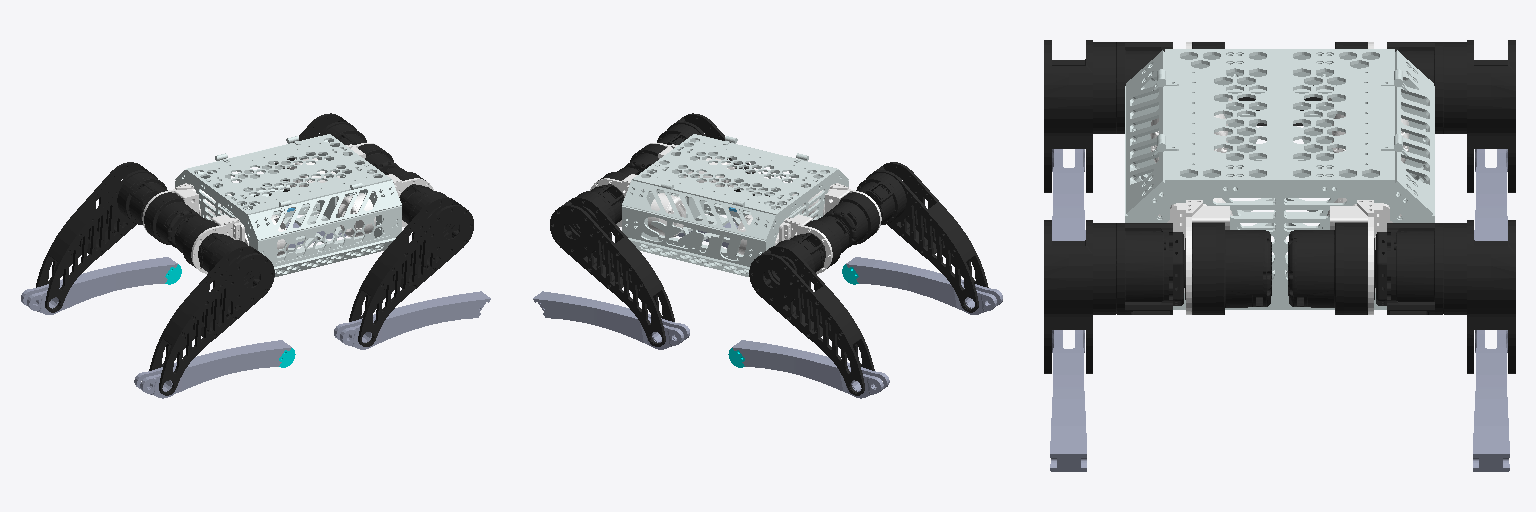
--- Render facts (derived) ---
Views: 3 orthographic renders of the robot side by side, from view 1: azimuth 30°, elevation 25°; view 2: azimuth 150°, elevation 25°; view 3: azimuth 270°, elevation 25°.
Robot: robot — 18 links, 17 joints (12 revolute, 5 fixed); root link base_link; default pose: all joints at 0.
Links seen in each view (by area): view 1: base_link, leg3_link2, leg4_link2, leg1_link2, leg1_link3, leg3_link3, leg4_link3, leg2_link2, leg3_link1, leg1_link1, leg4_link1; view 2: base_link, leg4_link2, leg3_link2, leg2_link2, leg2_link3, leg4_link3, leg3_link3, leg1_link2, leg4_link1, leg2_link1, leg3_link1; view 3: base_link, leg2_link2, leg1_link2, leg3_link2, leg4_link2, leg1_link3, leg2_link3, leg3_link3, leg4_link3, leg1_link1, leg2_link1.
Link boxes in pixels (x1,y1,x2,y2): base_link: [175, 134, 401, 277]; leg3_link2: [149, 216, 274, 395]; leg4_link2: [36, 162, 200, 312]; leg1_link2: [349, 167, 473, 346]; leg1_link3: [334, 291, 490, 349]; leg3_link3: [134, 340, 291, 398]; leg4_link3: [21, 257, 177, 314]; leg2_link2: [254, 113, 399, 196]; leg3_link1: [191, 214, 288, 273]; leg1_link1: [338, 174, 433, 236]; leg4_link1: [142, 183, 231, 233]; base_link: [622, 134, 848, 276]; leg4_link2: [749, 216, 874, 395]; leg3_link2: [823, 162, 988, 312]; leg2_link2: [550, 167, 674, 346]; leg2_link3: [533, 291, 689, 349]; leg4_link3: [732, 340, 889, 398]; leg3_link3: [846, 257, 1002, 314]; leg1_link2: [624, 113, 769, 196]; leg4_link1: [737, 214, 832, 273]; leg2_link1: [590, 174, 685, 237]; leg3_link1: [792, 183, 881, 232]; base_link: [1125, 49, 1434, 309]; leg2_link2: [1288, 220, 1515, 373]; leg1_link2: [1044, 220, 1271, 373]; leg3_link2: [1044, 40, 1266, 192]; leg4_link2: [1293, 40, 1515, 192]; leg1_link3: [1050, 330, 1086, 471]; leg2_link3: [1473, 330, 1509, 471]; leg3_link3: [1052, 149, 1085, 240]; leg4_link3: [1474, 149, 1507, 240]; leg1_link1: [1158, 198, 1232, 314]; leg2_link1: [1327, 198, 1401, 314].
Bounding box of the posed robot: 0.6176 × 0.3896 × 0.237 m (x, y, z).
15 mesh visuals loaded from 17 distinct referenced files (15 binary STL); not drawn: 2 (reference not matched to a file when rendering).

robot.urdf — robot:
<?xml version="1.0" ?>
<!-- =================================================================================== -->
<!-- |    This document was autogenerated by xacro from ./Combination.xacro            | -->
<!-- |    EDITING THIS FILE BY HAND IS NOT RECOMMENDED                                 | -->
<!-- =================================================================================== -->
<robot name="robot">
  <mujoco>
    <compiler meshdir="../meshes/" balanceinertia="true" discardvisual="false"/>
  </mujoco>
  <!-- 定义颜色材料 -->
  <!--金属-->
  <material name="body_material">
    <color rgba="0.9 0.95 0.95 1"/>
  </material>
  <!--白色-->
  <material name="link_1_material">
    <color rgba="1.0 1.0 1.0 1.0"/>
  </material>
  <!--深灰哑光-->
  <material name="link_2_material">
    <color rgba="0.2 0.2 0.2 1"/>
  </material>
  <!--灰色-->
  <material name="link_3_material">
    <color rgba="0.671705 0.692426 0.774270 1"/>
  </material>
  <!--半透明青色-->
  <material name="link_4_material">
    <color rgba="0.0 1.0 1.0 0.75"/>
  </material>
  <!--身体部分body-->
  <link name="base_link">
    <!--惯性矩阵-->
    <inertial>
      <origin rpy="0 0 0" xyz="0.00015 0.00075 -0.004"/>
      <mass value="5.0"/>
      <inertia ixx="0.04181" ixy="-1e-05" ixz="5e-05" iyy="0.0558" iyz="2e-05" izz="0.0793"/>
    </inertial>
    <!--可视化-->
    <visual>
      <origin rpy="0 0 0" xyz="0 0 0"/>
      <geometry>
        <mesh filename="package://robot_description/robot/meshes/base_link.STL"/>
      </geometry>
      <material name="body_material"/>
    </visual>
    <!--碰撞-->
    <collision>
      <origin rpy="0 0 0" xyz="0 0 0"/>
      <geometry>
        <box size="0.256 0.256 0.118"/>
      </geometry>
    </collision>
  </link>
  <!--joint1-->
  <joint name="leg1_joint1" type="revolute">
    <!--两个坐标系（link）的相对偏移-->
    <origin rpy="-0.0 0 0" xyz="0.177 -0.0755 0.0"/>
    <parent link="base_link"/>
    <child link="leg1_link1"/>
    <axis xyz="1 0 0"/>
    <dynamics damping="0.01" friction="0.2"/>
    <limit effort="36.0" lower="-3.14" upper="3.14" velocity="17.3"/>
  </joint>
  <!--link1-->
  <link name="leg1_link1">
    <!--质心偏移-->
    <inertial>
      <origin rpy="0 0 0" xyz="-0.00461 0.02471 0.00019"/>
      <mass value="0.68678"/>
      <inertia ixx="0.00051" ixy="5e-05" ixz="0.0" iyy="0.0005" iyz="-0.0" izz="0.00057"/>
    </inertial>
    <visual>
      <origin rpy="0 0 0" xyz="0 0 0"/>
      <geometry>
        <mesh filename="package://robot_description/robot/meshes/leg1_link1.STL"/>
      </geometry>
      <material name="link_1_material"/>
    </visual>
    <collision>
      <origin rpy="1.57 0 0" xyz="0 0.033 0"/>
      <geometry>
        <cylinder length="0.06" radius="0.038"/>
      </geometry>
    </collision>
  </link>
  <!--joint2-->
  <joint name="leg1_joint2" type="revolute">
    <!--两个坐标系（link）的相对偏移-->
    <origin rpy="0 0.785 0" xyz="0.0 -0.0993 0.0"/>
    <parent link="leg1_link1"/>
    <child link="leg1_link2"/>
    <axis xyz="0 1 0"/>
    <dynamics damping="0.01" friction="0.2"/>
    <limit effort="36.0" lower="-3.14" upper="3.14" velocity="17.3"/>
  </joint>
  <!--link2-->
  <link name="leg1_link2">
    <!--质心偏移-->
    <inertial>
      <origin rpy="0 0 0" xyz="-0.00238 0.02441 -0.04244"/>
      <mass value="1.22859"/>
      <inertia ixx="0.00754" ixy="8e-05" ixz="0.00033" iyy="0.00682" iyz="0.00128" izz="0.00167"/>
    </inertial>
    <visual>
      <origin rpy="0 0 0" xyz="0 0 0"/>
      <geometry>
        <mesh filename="package://robot_description/robot/meshes/leg1_link2.STL"/>
      </geometry>
      <material name="link_2_material"/>
    </visual>
    <!--圆柱和盒子组合-->
    <collision>
      <origin rpy="1.57 0 0" xyz="0 0.036 0"/>
      <geometry>
        <cylinder length="0.117" radius="0.038"/>
      </geometry>
    </collision>
    <collision>
      <origin rpy="0 1.57 0" xyz="0 0 -0.125"/>
      <geometry>
        <box size="0.165 0.04 0.06"/>
      </geometry>
    </collision>
  </link>
  <!--joint3-->
  <joint name="leg1_joint3" type="revolute">
    <!--两个坐标系（link）的相对偏移-->
    <origin rpy="0 -2.355 0" xyz="0.0 -0.0 -0.21"/>
    <parent link="leg1_link2"/>
    <child link="leg1_link3"/>
    <axis xyz="0 1 0"/>
    <dynamics damping="0.01" friction="0.2"/>
    <limit effort="36.0" lower="-3.14" upper="3.14" velocity="17.3"/>
  </joint>
  <!--link3-->
  <link name="leg1_link3">
    <!--质心偏移-->
    <inertial>
      <origin rpy="0 0 0" xyz="0.00418 -0.0 -0.09392"/>
      <mass value="0.20045"/>
      <inertia ixx="0.00094" ixy="-0.0" ixz="-3e-05" iyy="0.00094" iyz="-0.0" izz="3e-05"/>
    </inertial>
    <visual>
      <origin rpy="0 0 0" xyz="0 0 0"/>
      <geometry>
        <mesh filename="package://robot_description/robot/meshes/leg1_link3.STL"/>
      </geometry>
      <material name="link_3_material"/>
    </visual>
    <collision>
      <origin rpy="0 0 0" xyz="0 0 -0.105"/>
      <geometry>
        <cylinder length="0.21" radius="0.019"/>
      </geometry>
    </collision>
  </link>
  <!--joint4-->
  <joint name="leg1_joint4" type="fixed">
    <!--两个坐标系（link）的相对偏移-->
    <origin rpy="0 0 0" xyz="0.0 -0.0 -0.21"/>
    <parent link="leg1_link3"/>
    <child link="leg1_link4"/>
    <axis xyz="0 0 0"/>
    <!-- <dynamics damping="0 friction="0"/>
        <limit effort="0" velocity="0" lower="0" upper="0" /> -->
  </joint>
  <!--link4-->
  <link name="leg1_link4">
    <!--质心偏移-->
    <inertial>
      <origin rpy="0 0 0" xyz="-0.00432 -0.0 -0.00515"/>
      <mass value="0.01658"/>
      <inertia ixx="1e-05" ixy="-0.0" ixz="0.0" iyy="1e-05" iyz="-0.0" izz="1e-05"/>
    </inertial>
    <visual>
      <origin rpy="0 0 0" xyz="0 0 0"/>
      <geometry>
        <mesh filename="package://robot_description/robot/meshes/leg1_link4.STL"/>
      </geometry>
      <material name="link_4_material"/>
    </visual>
    <collision>
      <origin rpy="0 0 0" xyz="0 0 0"/>
      <geometry>
        <sphere radius="0.018"/>
      </geometry>
    </collision>
  </link>
  <!-- 指定执行机构 -->
  <!--motor1-->
  <transmission name="leg1_joint1_tran">
    <!--指定传动类型-->
    <type>transmission_interface/SimpleTransmission</type>
    <!--传动系统所连接的关节-->
    <joint name="leg1_joint1">
      <!--硬件接口-->
      <hardwareInterface>hardware_interface/EffortJointInterface</hardwareInterface>
    </joint>
    <!--执行器名称-->
    <actuator name="leg1_joint1_motor">
      <hardwareInterface>hardware_interface/EffortJointInterface</hardwareInterface>
      <!--减速比-->
      <mechanicalReduction>1</mechanicalReduction>
    </actuator>
  </transmission>
  <!--motor2-->
  <transmission name="leg1_joint2_tran">
    <type>transmission_interface/SimpleTransmission</type>
    <joint name="leg1_joint2">
      <hardwareInterface>hardware_interface/EffortJointInterface</hardwareInterface>
    </joint>
    <actuator name="leg1_joint2_motor">
      <hardwareInterface>hardware_interface/EffortJointInterface</hardwareInterface>
      <mechanicalReduction>1</mechanicalReduction>
    </actuator>
  </transmission>
  <!--motor3-->
  <transmission name="leg1_joint3_tran">
    <type>transmission_interface/SimpleTransmission</type>
    <joint name="leg1_joint3">
      <hardwareInterface>hardware_interface/EffortJointInterface</hardwareInterface>
    </joint>
    <actuator name="leg1_joint3_motor">
      <hardwareInterface>hardware_interface/EffortJointInterface</hardwareInterface>
      <mechanicalReduction>1</mechanicalReduction>
    </actuator>
  </transmission>
  <!--joint1-->
  <joint name="leg2_joint1" type="revolute">
    <!--两个坐标系（link）的相对偏移-->
    <origin rpy="0.0 0 0" xyz="0.177 0.0755 0.0"/>
    <parent link="base_link"/>
    <child link="leg2_link1"/>
    <axis xyz="1 0 0"/>
    <dynamics damping="0.01" friction="0.2"/>
    <limit effort="36.0" lower="-3.14" upper="3.14" velocity="17.3"/>
  </joint>
  <!--link1-->
  <link name="leg2_link1">
    <!--质心偏移-->
    <inertial>
      <origin rpy="0 0 0" xyz="-0.00461 -0.02471 0.00019"/>
      <mass value="0.68678"/>
      <inertia ixx="0.00051" ixy="-5e-05" ixz="0.0" iyy="0.0005" iyz="0.0" izz="0.00057"/>
    </inertial>
    <visual>
      <origin rpy="0 0 0" xyz="0 0 0"/>
      <geometry>
        <mesh filename="package://robot_description/robot/meshes/leg2_link1.STL"/>
      </geometry>
      <material name="link_1_material"/>
    </visual>
    <collision>
      <origin rpy="1.57 0 0" xyz="0 -0.033 0"/>
      <geometry>
        <cylinder length="0.06" radius="0.038"/>
      </geometry>
    </collision>
  </link>
  <!--joint2-->
  <joint name="leg2_joint2" type="revolute">
    <!--两个坐标系（link）的相对偏移-->
    <origin rpy="0 0.785 0" xyz="0.0 0.0993 0.0"/>
    <parent link="leg2_link1"/>
    <child link="leg2_link2"/>
    <axis xyz="0 1 0"/>
    <dynamics damping="0.01" friction="0.2"/>
    <limit effort="36.0" lower="-3.14" upper="3.14" velocity="17.3"/>
  </joint>
  <!--link2-->
  <link name="leg2_link2">
    <!--质心偏移-->
    <inertial>
      <origin rpy="0 0 0" xyz="-0.00238 -0.02441 -0.04244"/>
      <mass value="1.22859"/>
      <inertia ixx="0.00754" ixy="-8e-05" ixz="0.00033" iyy="0.00682" iyz="-0.00128" izz="0.00167"/>
    </inertial>
    <visual>
      <origin rpy="0 0 0" xyz="0 0 0"/>
      <geometry>
        <mesh filename="package://robot_description/robot/meshes/leg2_link2.STL"/>
      </geometry>
      <material name="link_2_material"/>
    </visual>
    <!--圆柱和盒子组合-->
    <collision>
      <origin rpy="1.57 0 0" xyz="0 -0.036 0"/>
      <geometry>
        <cylinder length="0.117" radius="0.038"/>
      </geometry>
    </collision>
    <collision>
      <origin rpy="0 1.57 0" xyz="0 0 -0.125"/>
      <geometry>
        <box size="0.165 0.04 0.06"/>
      </geometry>
    </collision>
  </link>
  <!--joint3-->
  <joint name="leg2_joint3" type="revolute">
    <!--两个坐标系（link）的相对偏移-->
    <origin rpy="0 -2.355 0" xyz="0.0 0.0 -0.21"/>
    <parent link="leg2_link2"/>
    <child link="leg2_link3"/>
    <axis xyz="0 1 0"/>
    <dynamics damping="0.01" friction="0.2"/>
    <limit effort="36.0" lower="-3.14" upper="3.14" velocity="17.3"/>
  </joint>
  <!--link3-->
  <link name="leg2_link3">
    <!--质心偏移-->
    <inertial>
      <origin rpy="0 0 0" xyz="0.00418 0.0 -0.09392"/>
      <mass value="0.20045"/>
      <inertia ixx="0.00094" ixy="0.0" ixz="-3e-05" iyy="0.00094" iyz="0.0" izz="3e-05"/>
    </inertial>
    <visual>
      <origin rpy="0 0 0" xyz="0 0 0"/>
      <geometry>
        <mesh filename="package://robot_description/robot/meshes/leg2_link3.STL"/>
      </geometry>
      <material name="link_3_material"/>
    </visual>
    <collision>
      <origin rpy="0 0 0" xyz="0 0 -0.105"/>
      <geometry>
        <cylinder length="0.21" radius="0.019"/>
      </geometry>
    </collision>
  </link>
  <!--joint4-->
  <joint name="leg2_joint4" type="fixed">
    <!--两个坐标系（link）的相对偏移-->
    <origin rpy="0 0 0" xyz="0.0 0.0 -0.21"/>
    <parent link="leg2_link3"/>
    <child link="leg2_link4"/>
    <axis xyz="0 0 0"/>
    <!-- <dynamics damping="0 friction="0"/>
        <limit effort="0" velocity="0" lower="0" upper="0" /> -->
  </joint>
  <!--link4-->
  <link name="leg2_link4">
    <!--质心偏移-->
    <inertial>
      <origin rpy="0 0 0" xyz="-0.00432 0.0 -0.00515"/>
      <mass value="0.01658"/>
      <inertia ixx="1e-05" ixy="0.0" ixz="0.0" iyy="1e-05" iyz="0.0" izz="1e-05"/>
    </inertial>
    <visual>
      <origin rpy="0 0 0" xyz="0 0 0"/>
      <geometry>
        <mesh filename="package://robot_description/robot/meshes/leg2_link4.STL"/>
      </geometry>
      <material name="link_4_material"/>
    </visual>
    <collision>
      <origin rpy="0 0 0" xyz="0 0 0"/>
      <geometry>
        <sphere radius="0.018"/>
      </geometry>
    </collision>
  </link>
  <!-- 指定执行机构 -->
  <!--motor1-->
  <transmission name="leg2_joint1_tran">
    <!--指定传动类型-->
    <type>transmission_interface/SimpleTransmission</type>
    <!--传动系统所连接的关节-->
    <joint name="leg2_joint1">
      <!--硬件接口-->
      <hardwareInterface>hardware_interface/EffortJointInterface</hardwareInterface>
    </joint>
    <!--执行器名称-->
    <actuator name="leg2_joint1_motor">
      <hardwareInterface>hardware_interface/EffortJointInterface</hardwareInterface>
      <!--减速比-->
      <mechanicalReduction>1</mechanicalReduction>
    </actuator>
  </transmission>
  <!--motor2-->
  <transmission name="leg2_joint2_tran">
    <type>transmission_interface/SimpleTransmission</type>
    <joint name="leg2_joint2">
      <hardwareInterface>hardware_interface/EffortJointInterface</hardwareInterface>
    </joint>
    <actuator name="leg2_joint2_motor">
      <hardwareInterface>hardware_interface/EffortJointInterface</hardwareInterface>
      <mechanicalReduction>1</mechanicalReduction>
    </actuator>
  </transmission>
  <!--motor3-->
  <transmission name="leg2_joint3_tran">
    <type>transmission_interface/SimpleTransmission</type>
    <joint name="leg2_joint3">
      <hardwareInterface>hardware_interface/EffortJointInterface</hardwareInterface>
    </joint>
    <actuator name="leg2_joint3_motor">
      <hardwareInterface>hardware_interface/EffortJointInterface</hardwareInterface>
      <mechanicalReduction>1</mechanicalReduction>
    </actuator>
  </transmission>
  <!--joint1-->
  <joint name="leg3_joint1" type="revolute">
    <!--两个坐标系（link）的相对偏移-->
    <origin rpy="-0.0 0 0" xyz="-0.177 -0.0755 0.0"/>
    <parent link="base_link"/>
    <child link="leg3_link1"/>
    <axis xyz="1 0 0"/>
    <dynamics damping="0.01" friction="0.2"/>
    <limit effort="36.0" lower="-3.14" upper="3.14" velocity="17.3"/>
  </joint>
  <!--link1-->
  <link name="leg3_link1">
    <!--质心偏移-->
    <inertial>
      <origin rpy="0 0 0" xyz="0.00461 0.02471 0.00019"/>
      <mass value="0.68678"/>
      <inertia ixx="0.00051" ixy="-5e-05" ixz="-0.0" iyy="0.0005" iyz="-0.0" izz="0.00057"/>
    </inertial>
    <visual>
      <origin rpy="0 0 0" xyz="0 0 0"/>
      <geometry>
        <mesh filename="package://robot_description/robot/meshes/leg3_link1.STL"/>
      </geometry>
      <material name="link_1_material"/>
    </visual>
    <collision>
      <origin rpy="1.57 0 0" xyz="0 0.033 0"/>
      <geometry>
        <cylinder length="0.06" radius="0.038"/>
      </geometry>
    </collision>
  </link>
  <!--joint2-->
  <joint name="leg3_joint2" type="revolute">
    <!--两个坐标系（link）的相对偏移-->
    <origin rpy="0 0.785 0" xyz="-0.0 -0.0993 0.0"/>
    <parent link="leg3_link1"/>
    <child link="leg3_link2"/>
    <axis xyz="0 1 0"/>
    <dynamics damping="0.01" friction="0.2"/>
    <limit effort="36.0" lower="-3.14" upper="3.14" velocity="17.3"/>
  </joint>
  <!--link2-->
  <link name="leg3_link2">
    <!--质心偏移-->
    <inertial>
      <origin rpy="0 0 0" xyz="0.00238 0.02441 -0.04244"/>
      <mass value="1.22859"/>
      <inertia ixx="0.00754" ixy="-8e-05" ixz="-0.00033" iyy="0.00682" iyz="0.00128" izz="0.00167"/>
    </inertial>
    <visual>
      <origin rpy="0 0 0" xyz="0 0 0"/>
      <geometry>
        <mesh filename="package://robot_description/robot/meshes/leg3_link2.STL"/>
      </geometry>
      <material name="link_2_material"/>
    </visual>
    <!--圆柱和盒子组合-->
    <collision>
      <origin rpy="1.57 0 0" xyz="0 0.036 0"/>
      <geometry>
        <cylinder length="0.117" radius="0.038"/>
      </geometry>
    </collision>
    <collision>
      <origin rpy="0 1.57 0" xyz="0 0 -0.125"/>
      <geometry>
        <box size="0.165 0.04 0.06"/>
      </geometry>
    </collision>
  </link>
  <!--joint3-->
  <joint name="leg3_joint3" type="revolute">
    <!--两个坐标系（link）的相对偏移-->
    <origin rpy="0 -2.355 0" xyz="-0.0 -0.0 -0.21"/>
    <parent link="leg3_link2"/>
    <child link="leg3_link3"/>
    <axis xyz="0 1 0"/>
    <dynamics damping="0.01" friction="0.2"/>
    <limit effort="36.0" lower="-3.14" upper="3.14" velocity="17.3"/>
  </joint>
  <!--link3-->
  <link name="leg3_link3">
    <!--质心偏移-->
    <inertial>
      <origin rpy="0 0 0" xyz="-0.00418 -0.0 -0.09392"/>
      <mass value="0.20045"/>
      <inertia ixx="0.00094" ixy="0.0" ixz="3e-05" iyy="0.00094" iyz="-0.0" izz="3e-05"/>
    </inertial>
    <visual>
      <origin rpy="0 0 0" xyz="0 0 0"/>
      <geometry>
        <mesh filename="package://robot_description/robot/meshes/leg3_link3.STL"/>
      </geometry>
      <material name="link_3_material"/>
    </visual>
    <collision>
      <origin rpy="0 0 0" xyz="0 0 -0.105"/>
      <geometry>
        <cylinder length="0.21" radius="0.019"/>
      </geometry>
    </collision>
  </link>
  <!--joint4-->
  <joint name="leg3_joint4" type="fixed">
    <!--两个坐标系（link）的相对偏移-->
    <origin rpy="0 0 0" xyz="-0.0 -0.0 -0.21"/>
    <parent link="leg3_link3"/>
    <child link="leg3_link4"/>
    <axis xyz="0 0 0"/>
    <!-- <dynamics damping="0 friction="0"/>
        <limit effort="0" velocity="0" lower="0" upper="0" /> -->
  </joint>
  <!--link4-->
  <link name="leg3_link4">
    <!--质心偏移-->
    <inertial>
      <origin rpy="0 0 0" xyz="0.00432 -0.0 -0.00515"/>
      <mass value="0.01658"/>
      <inertia ixx="1e-05" ixy="0.0" ixz="-0.0" iyy="1e-05" iyz="-0.0" izz="1e-05"/>
    </inertial>
    <visual>
      <origin rpy="0 0 0" xyz="0 0 0"/>
      <geometry>
        <mesh filename="package://robot_description/robot/meshes/leg3_link4.STL"/>
      </geometry>
      <material name="link_4_material"/>
    </visual>
    <collision>
      <origin rpy="0 0 0" xyz="0 0 0"/>
      <geometry>
        <sphere radius="0.018"/>
      </geometry>
    </collision>
  </link>
  <!-- 指定执行机构 -->
  <!--motor1-->
  <transmission name="leg3_joint1_tran">
    <!--指定传动类型-->
    <type>transmission_interface/SimpleTransmission</type>
    <!--传动系统所连接的关节-->
    <joint name="leg3_joint1">
      <!--硬件接口-->
      <hardwareInterface>hardware_interface/EffortJointInterface</hardwareInterface>
    </joint>
    <!--执行器名称-->
    <actuator name="leg3_joint1_motor">
      <hardwareInterface>hardware_interface/EffortJointInterface</hardwareInterface>
      <!--减速比-->
      <mechanicalReduction>1</mechanicalReduction>
    </actuator>
  </transmission>
  <!--motor2-->
  <transmission name="leg3_joint2_tran">
    <type>transmission_interface/SimpleTransmission</type>
    <joint name="leg3_joint2">
      <hardwareInterface>hardware_interface/EffortJointInterface</hardwareInterface>
    </joint>
    <actuator name="leg3_joint2_motor">
      <hardwareInterface>hardware_interface/EffortJointInterface</hardwareInterface>
      <mechanicalReduction>1</mechanicalReduction>
    </actuator>
  </transmission>
  <!--motor3-->
  <transmission name="leg3_joint3_tran">
    <type>transmission_interface/SimpleTransmission</type>
    <joint name="leg3_joint3">
      <hardwareInterface>hardware_interface/EffortJointInterface</hardwareInterface>
    </joint>
    <actuator name="leg3_joint3_motor">
      <hardwareInterface>hardware_interface/EffortJointInterface</hardwareInterface>
      <mechanicalReduction>1</mechanicalReduction>
    </actuator>
  </transmission>
  <!--joint1-->
  <joint name="leg4_joint1" type="revolute">
    <!--两个坐标系（link）的相对偏移-->
    <origin rpy="0.0 0 0" xyz="-0.177 0.0755 0.0"/>
    <parent link="base_link"/>
    <child link="leg4_link1"/>
    <axis xyz="1 0 0"/>
    <dynamics damping="0.01" friction="0.2"/>
    <limit effort="36.0" lower="-3.14" upper="3.14" velocity="17.3"/>
  </joint>
  <!--link1-->
  <link name="leg4_link1">
    <!--质心偏移-->
    <inertial>
      <origin rpy="0 0 0" xyz="0.00461 -0.02471 0.00019"/>
      <mass value="0.68678"/>
      <inertia ixx="0.00051" ixy="5e-05" ixz="-0.0" iyy="0.0005" iyz="0.0" izz="0.00057"/>
    </inertial>
    <visual>
      <origin rpy="0 0 0" xyz="0 0 0"/>
      <geometry>
        <mesh filename="package://robot_description/robot/meshes/leg4_link1.STL"/>
      </geometry>
      <material name="link_1_material"/>
    </visual>
    <collision>
      <origin rpy="1.57 0 0" xyz="0 -0.033 0"/>
      <geometry>
        <cylinder length="0.06" radius="0.038"/>
      </geometry>
    </collision>
  </link>
  <!--joint2-->
  <joint name="leg4_joint2" type="revolute">
    <!--两个坐标系（link）的相对偏移-->
    <origin rpy="0 0.785 0" xyz="-0.0 0.0993 0.0"/>
    <parent link="leg4_link1"/>
    <child link="leg4_link2"/>
    <axis xyz="0 1 0"/>
    <dynamics damping="0.01" friction="0.2"/>
    <limit effort="36.0" lower="-3.14" upper="3.14" velocity="17.3"/>
  </joint>
  <!--link2-->
  <link name="leg4_link2">
    <!--质心偏移-->
    <inertial>
      <origin rpy="0 0 0" xyz="0.00238 -0.02441 -0.04244"/>
      <mass value="1.22859"/>
      <inertia ixx="0.00754" ixy="8e-05" ixz="-0.00033" iyy="0.00682" iyz="-0.00128" izz="0.00167"/>
    </inertial>
    <visual>
      <origin rpy="0 0 0" xyz="0 0 0"/>
      <geometry>
        <mesh filename="package://robot_description/robot/meshes/leg4_link2.STL"/>
      </geometry>
      <material name="link_2_material"/>
    </visual>
    <!--圆柱和盒子组合-->
    <collision>
      <origin rpy="1.57 0 0" xyz="0 -0.036 0"/>
      <geometry>
        <cylinder length="0.117" radius="0.038"/>
      </geometry>
    </collision>
    <collision>
      <origin rpy="0 1.57 0" xyz="0 0 -0.125"/>
      <geometry>
        <box size="0.165 0.04 0.06"/>
      </geometry>
    </collision>
  </link>
  <!--joint3-->
  <joint name="leg4_joint3" type="revolute">
    <!--两个坐标系（link）的相对偏移-->
    <origin rpy="0 -2.355 0" xyz="-0.0 0.0 -0.21"/>
    <parent link="leg4_link2"/>
    <child link="leg4_link3"/>
    <axis xyz="0 1 0"/>
    <dynamics damping="0.01" friction="0.2"/>
    <limit effort="36.0" lower="-3.14" upper="3.14" velocity="17.3"/>
  </joint>
  <!--link3-->
  <link name="leg4_link3">
    <!--质心偏移-->
    <inertial>
      <origin rpy="0 0 0" xyz="-0.00418 0.0 -0.09392"/>
      <mass value="0.20045"/>
      <inertia ixx="0.00094" ixy="-0.0" ixz="3e-05" iyy="0.00094" iyz="0.0" izz="3e-05"/>
    </inertial>
    <visual>
      <origin rpy="0 0 0" xyz="0 0 0"/>
      <geometry>
        <mesh filename="package://robot_description/robot/meshes/leg4_link3.STL"/>
      </geometry>
      <material name="link_3_material"/>
    </visual>
    <collision>
      <origin rpy="0 0 0" xyz="0 0 -0.105"/>
      <geometry>
        <cylinder length="0.21" radius="0.019"/>
      </geometry>
    </collision>
  </link>
  <!--joint4-->
  <joint name="leg4_joint4" type="fixed">
    <!--两个坐标系（link）的相对偏移-->
    <origin rpy="0 0 0" xyz="-0.0 0.0 -0.21"/>
    <parent link="leg4_link3"/>
    <child link="leg4_link4"/>
    <axis xyz="0 0 0"/>
    <!-- <dynamics damping="0 friction="0"/>
        <limit effort="0" velocity="0" lower="0" upper="0" /> -->
  </joint>
  <!--link4-->
  <link name="leg4_link4">
    <!--质心偏移-->
    <inertial>
      <origin rpy="0 0 0" xyz="0.00432 0.0 -0.00515"/>
      <mass value="0.01658"/>
      <inertia ixx="1e-05" ixy="-0.0" ixz="-0.0" iyy="1e-05" iyz="0.0" izz="1e-05"/>
    </inertial>
    <visual>
      <origin rpy="0 0 0" xyz="0 0 0"/>
      <geometry>
        <mesh filename="package://robot_description/robot/meshes/leg4_link4.STL"/>
      </geometry>
      <material name="link_4_material"/>
    </visual>
    <collision>
      <origin rpy="0 0 0" xyz="0 0 0"/>
      <geometry>
        <sphere radius="0.018"/>
      </geometry>
    </collision>
  </link>
  <!-- 指定执行机构 -->
  <!--motor1-->
  <transmission name="leg4_joint1_tran">
    <!--指定传动类型-->
    <type>transmission_interface/SimpleTransmission</type>
    <!--传动系统所连接的关节-->
    <joint name="leg4_joint1">
      <!--硬件接口-->
      <hardwareInterface>hardware_interface/EffortJointInterface</hardwareInterface>
    </joint>
    <!--执行器名称-->
    <actuator name="leg4_joint1_motor">
      <hardwareInterface>hardware_interface/EffortJointInterface</hardwareInterface>
      <!--减速比-->
      <mechanicalReduction>1</mechanicalReduction>
    </actuator>
  </transmission>
  <!--motor2-->
  <transmission name="leg4_joint2_tran">
    <type>transmission_interface/SimpleTransmission</type>
    <joint name="leg4_joint2">
      <hardwareInterface>hardware_interface/EffortJointInterface</hardwareInterface>
    </joint>
    <actuator name="leg4_joint2_motor">
      <hardwareInterface>hardware_interface/EffortJointInterface</hardwareInterface>
      <mechanicalReduction>1</mechanicalReduction>
    </actuator>
  </transmission>
  <!--motor3-->
  <transmission name="leg4_joint3_tran">
    <type>transmission_interface/SimpleTransmission</type>
    <joint name="leg4_joint3">
      <hardwareInterface>hardware_interface/EffortJointInterface</hardwareInterface>
    </joint>
    <actuator name="leg4_joint3_motor">
      <hardwareInterface>hardware_interface/EffortJointInterface</hardwareInterface>
      <mechanicalReduction>1</mechanicalReduction>
    </actuator>
  </transmission>
  <!--imu-->
  <!-- Imu joint -->
  <joint name="imu_joint" type="fixed">
    <origin rpy="0 0 0" xyz="0 0 0"/>
    <parent link="base_link"/>
    <child link="imu_link"/>
  </joint>
  <!-- Imu link -->
  <link name="imu_link">
    <!-- 材料 -->
    <inertial>
      <mass value="0.01"/>
      <origin rpy="0 0 0" xyz="0 0 0"/>
      <inertia ixx="0.000001" ixy="0" ixz="0" iyy="0.000001" iyz="0" izz="0.000001"/>
    </inertial>
    <!-- 可视化 -->
    <visual>
      <origin rpy="0 0 0" xyz="0 0 0"/>
      <geometry>
        <box size="0.015 0.015 0.004"/>
      </geometry>
    </visual>
    <!-- 颜色 -->
    <material name="orange">
      <color rgba="255 108 10 255"/>
    </material>
  </link>
</robot>
